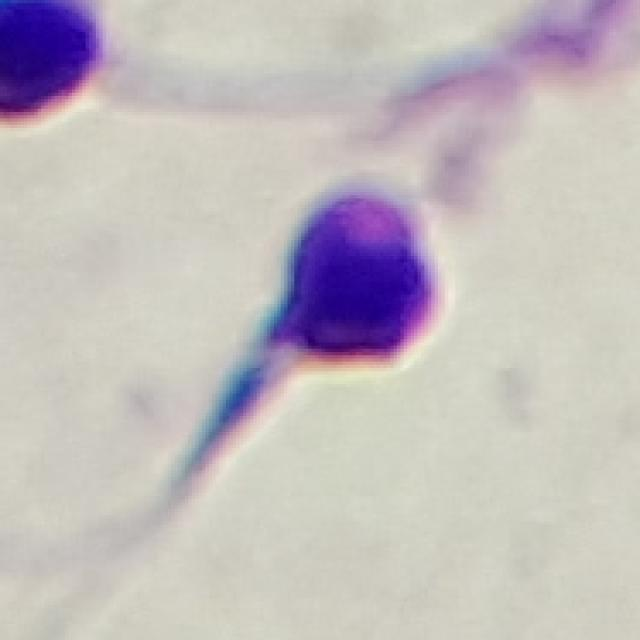abnormal sperm: (122, 164, 484, 640)
